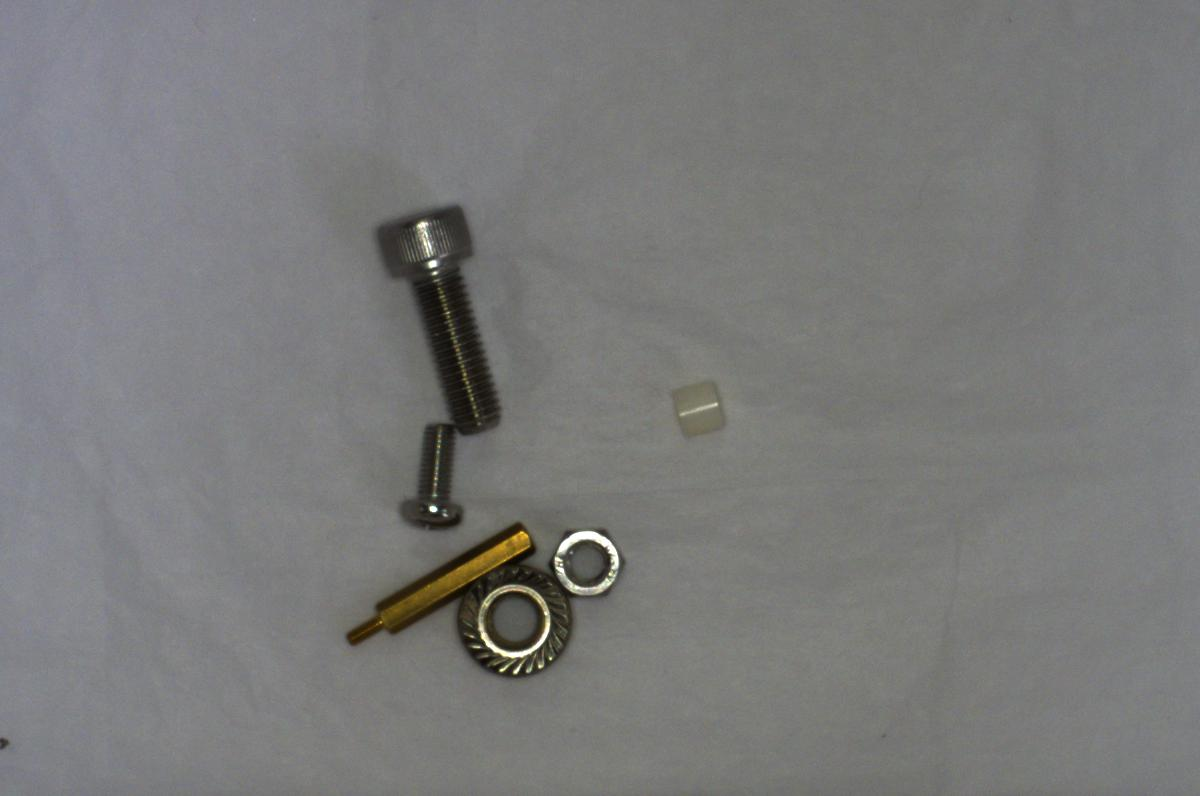Flange nut: (454, 565, 577, 678)
Hexagon nut: (545, 519, 633, 601)
Hexagon pillar: (338, 516, 533, 648)
Hexagon screw: (377, 195, 510, 440)
Plastic cushion pillar: (662, 373, 734, 443)
Round head screw: (391, 416, 475, 533)
